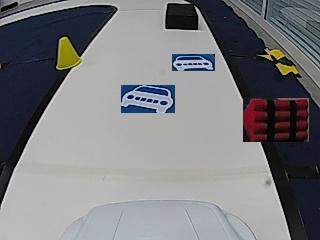block: (164, 3, 198, 30)
cone: (57, 38, 81, 69)
